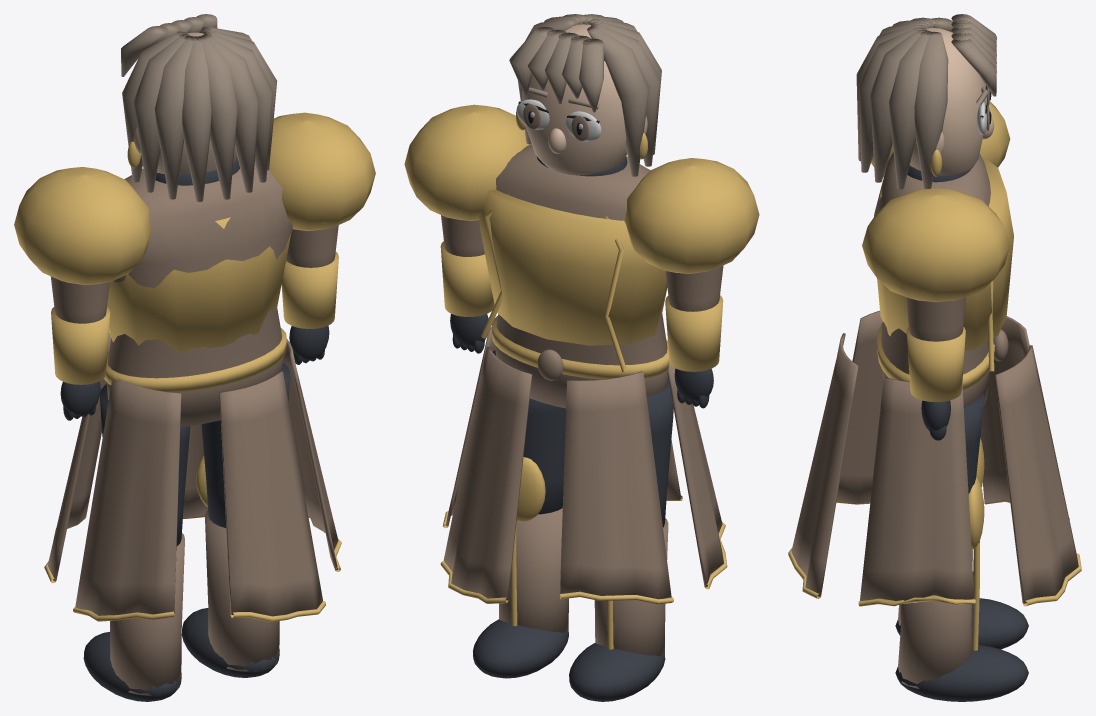
File: hero-basalt.glb
The picture shows the model from 3 angles, left to right: view 1: azimuth 30°, elevation 25°; view 2: azimuth 150°, elevation 25°; view 3: azimuth 270°, elevation 25°; orthographic projection.
Visible parts, largest first — view 1: torso_Painted character, head_Painted character, legR_Painted character, legL_Painted character, armL_Painted character, armR_Painted character; view 2: torso_Painted character, head_Painted character, legR_Painted character, legL_Painted character, armL_Painted character, armR_Painted character; view 3: torso_Painted character, head_Painted character, legR_Painted character, armR_Painted character, legL_Painted character.
Part boxes in pixels (x1=…): torso_Painted character: x1=14, y1=112, x2=375, y2=621; head_Painted character: x1=121, y1=14, x2=277, y2=201; legR_Painted character: x1=181, y1=363, x2=290, y2=677; legL_Painted character: x1=83, y1=384, x2=190, y2=701; armL_Painted character: x1=50, y1=276, x2=110, y2=420; armR_Painted character: x1=281, y1=225, x2=338, y2=364; torso_Painted character: x1=404, y1=104, x2=759, y2=604; head_Painted character: x1=509, y1=14, x2=661, y2=176; legR_Painted character: x1=473, y1=350, x2=568, y2=678; legL_Painted character: x1=569, y1=377, x2=673, y2=701; armL_Painted character: x1=665, y1=265, x2=723, y2=408; armR_Painted character: x1=440, y1=215, x2=494, y2=353; torso_Painted character: x1=788, y1=101, x2=1081, y2=606; head_Painted character: x1=856, y1=14, x2=996, y2=189; legR_Painted character: x1=895, y1=393, x2=1028, y2=701; armR_Painted character: x1=906, y1=297, x2=965, y2=440; legL_Painted character: x1=895, y1=438, x2=1028, y2=649.
Size of the model in its own units: 1.04 by 1.92 by 0.7913.
